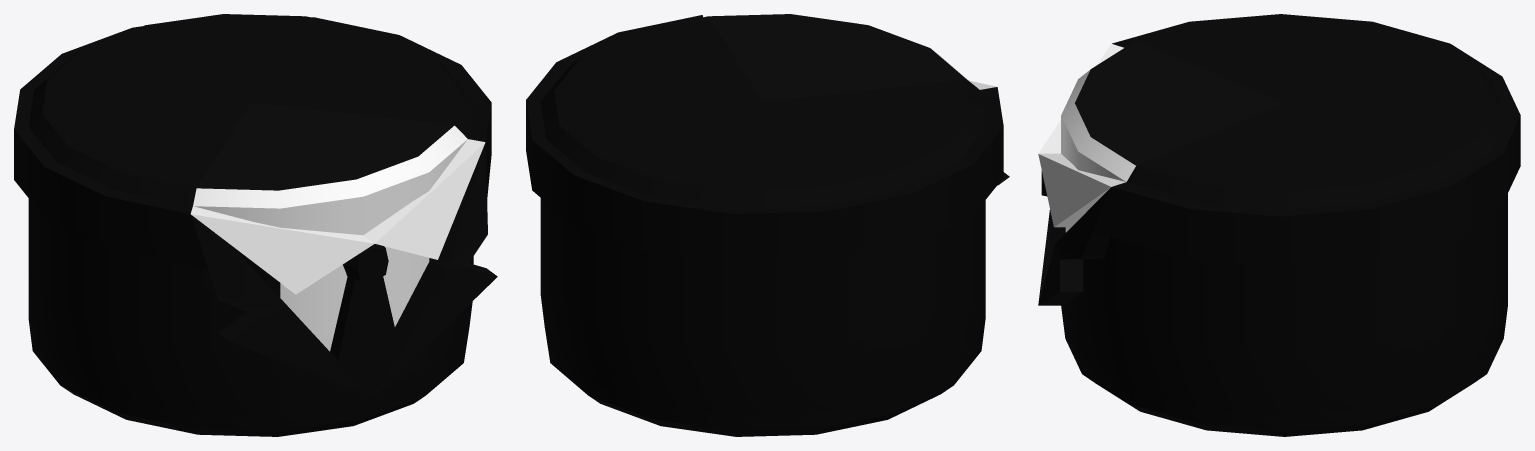
File: Body_Dress_01.fbx
3 renders of one model, left to right at view 1: azimuth 30°, elevation 25°; view 2: azimuth 150°, elevation 25°; view 3: azimuth 270°, elevation 25°, orthographic.
Visible parts, largest first — view 1: Body_Dress_01; view 2: Body_Dress_01; view 3: Body_Dress_01.
Boxes of the visible parts, x1=… form: Body_Dress_01: x1=14, y1=14, x2=497, y2=436; Body_Dress_01: x1=526, y1=14, x2=1009, y2=436; Body_Dress_01: x1=1038, y1=14, x2=1520, y2=436.
Size of the model in its own units: 107 by 61.13 by 108.
